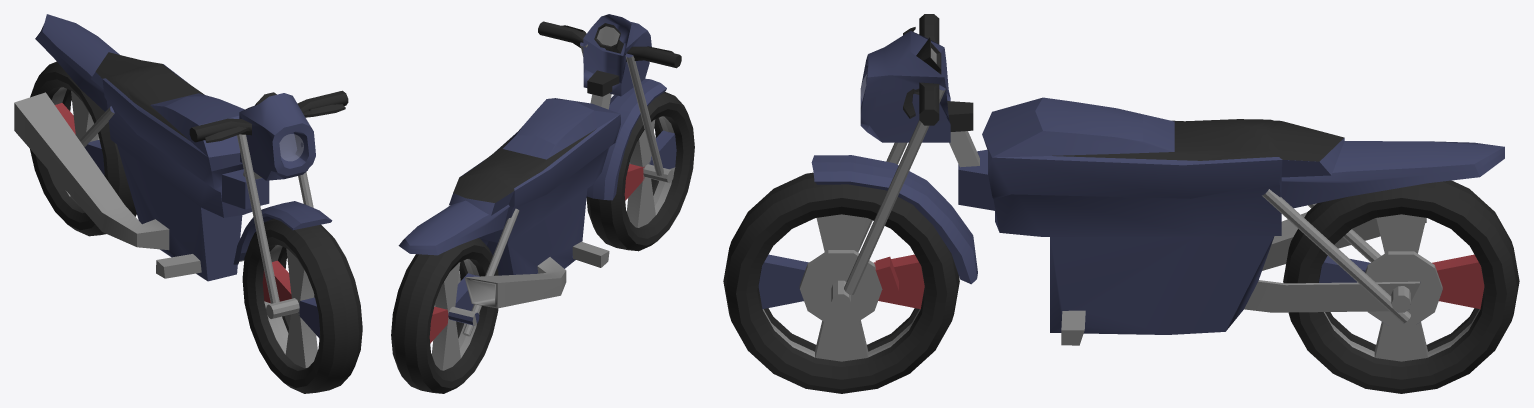
File: motorcycle.glb
The picture shows the model from 3 angles, left to right: view 1: azimuth 30°, elevation 25°; view 2: azimuth 150°, elevation 25°; view 3: azimuth 270°, elevation 25°; orthographic projection. The views are drawn at different scales.
Visible parts, largest first — view 1: Moto_Body, F_Tire, manubrio, B_Tire, Headlight; view 2: Moto_Body, B_Tire, F_Tire, manubrio; view 3: Moto_Body, F_Tire, B_Tire, manubrio.
Part boxes in pixels (<box>): Moto_Body: <box>14,14,269,281</box>; F_Tire: <box>242,218,362,393</box>; manubrio: <box>189,90,348,318</box>; B_Tire: <box>30,61,136,236</box>; Headlight: <box>280,134,303,160</box>; Moto_Body: <box>398,70,620,336</box>; B_Tire: <box>391,238,498,393</box>; F_Tire: <box>586,92,694,251</box>; manubrio: <box>538,14,681,200</box>; Moto_Body: <box>947,97,1504,345</box>; F_Tire: <box>723,172,959,393</box>; B_Tire: <box>1283,180,1519,393</box>; manubrio: <box>799,14,977,324</box>.
Bounding box in the file's own units: 0.7192 × 1.24 × 2.53.
